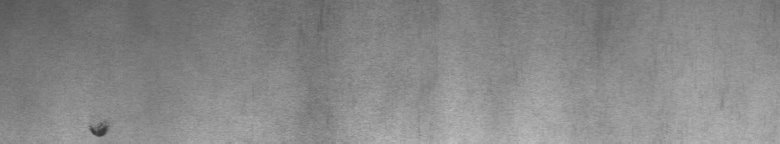fi: (82, 116, 116, 136)
